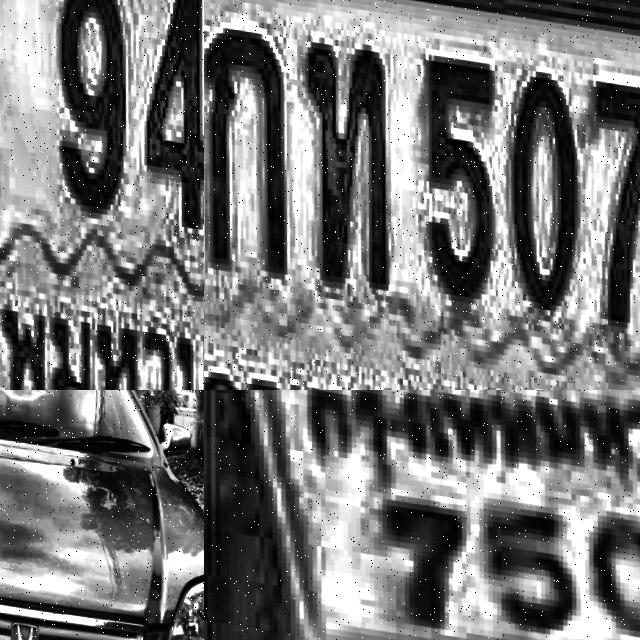license-plate: (204, 0, 640, 390), (204, 390, 640, 640), (0, 0, 204, 390)
